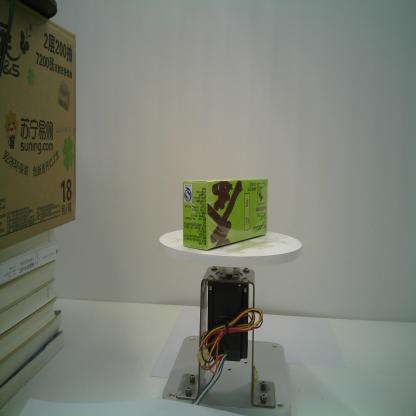Instant Drink: (182, 179, 268, 250)
